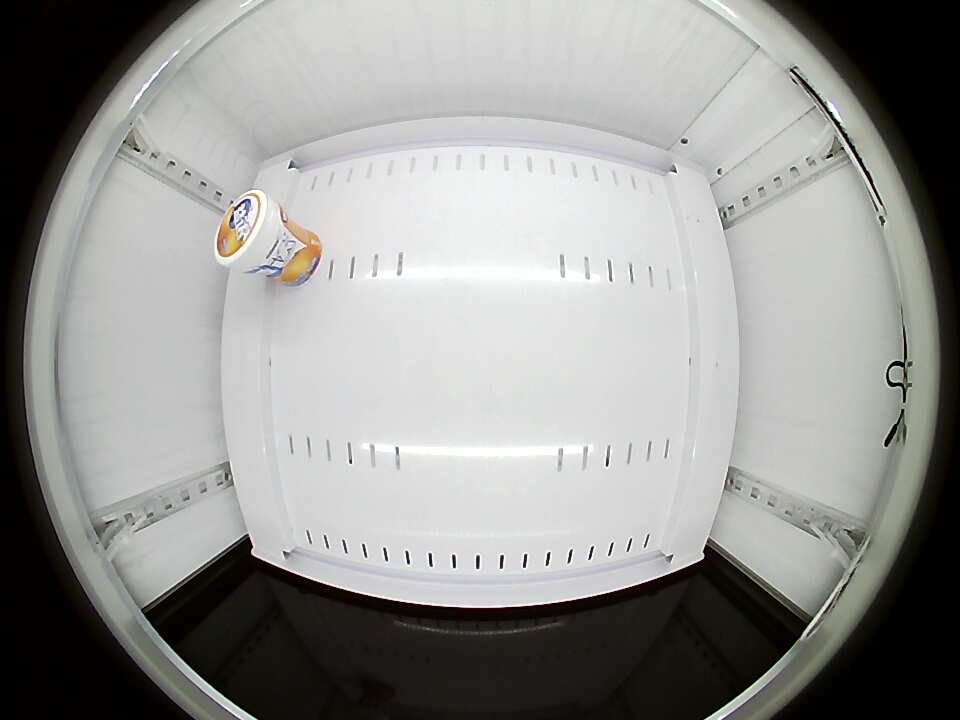yida: (215, 189, 287, 273)
